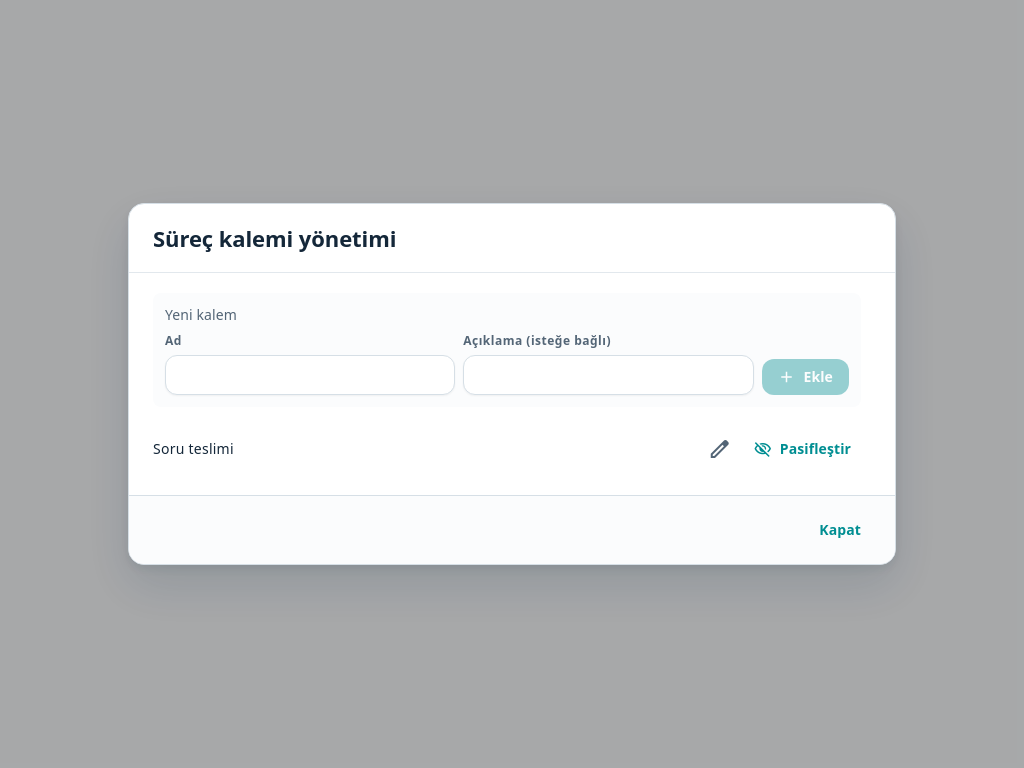
Test: KalemYonetimiDialog › pasifleştirme başlıklı onaydan geçer ve is_active=false yollar
What coordinates should you click on to do the following:
click the button with aria-label "Soru teslimi kalemini pasifleştir"
I would click on:
 (802, 449)
Its box is [744, 431, 861, 467].
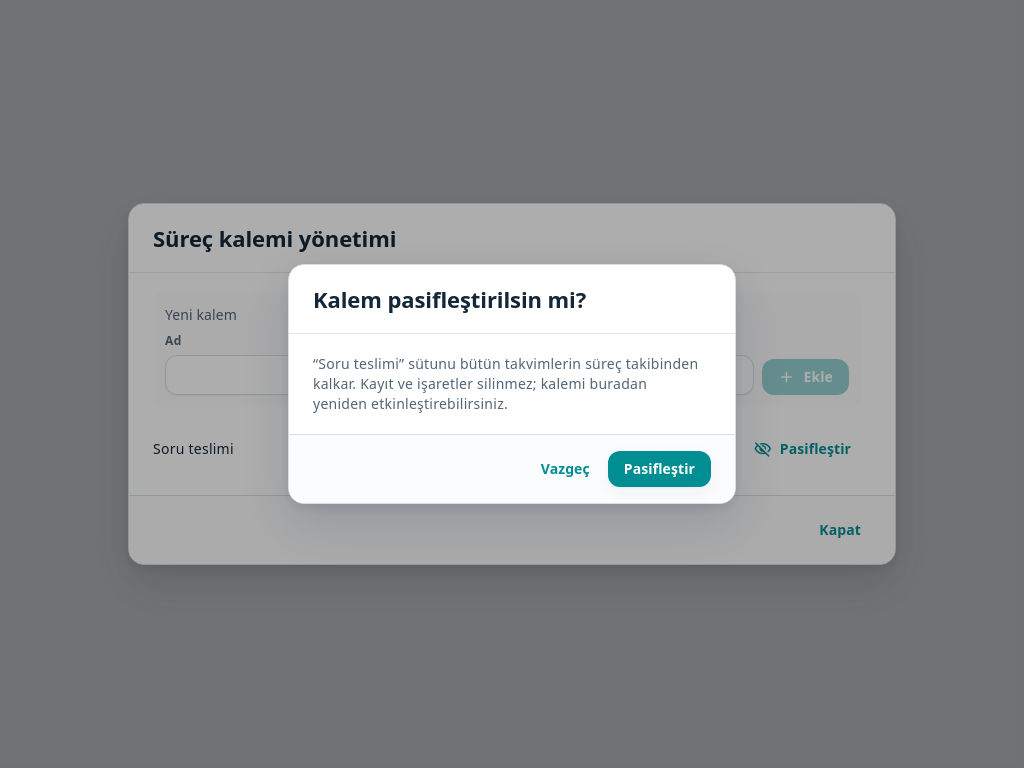
Result: the text "işaretler silinmez" is shown at [313, 354, 698, 413]
What coordinates should you click on to do the following:
click the button "Pasifleştir"
I would click on:
 (659, 469)
Its box is [608, 451, 711, 487].
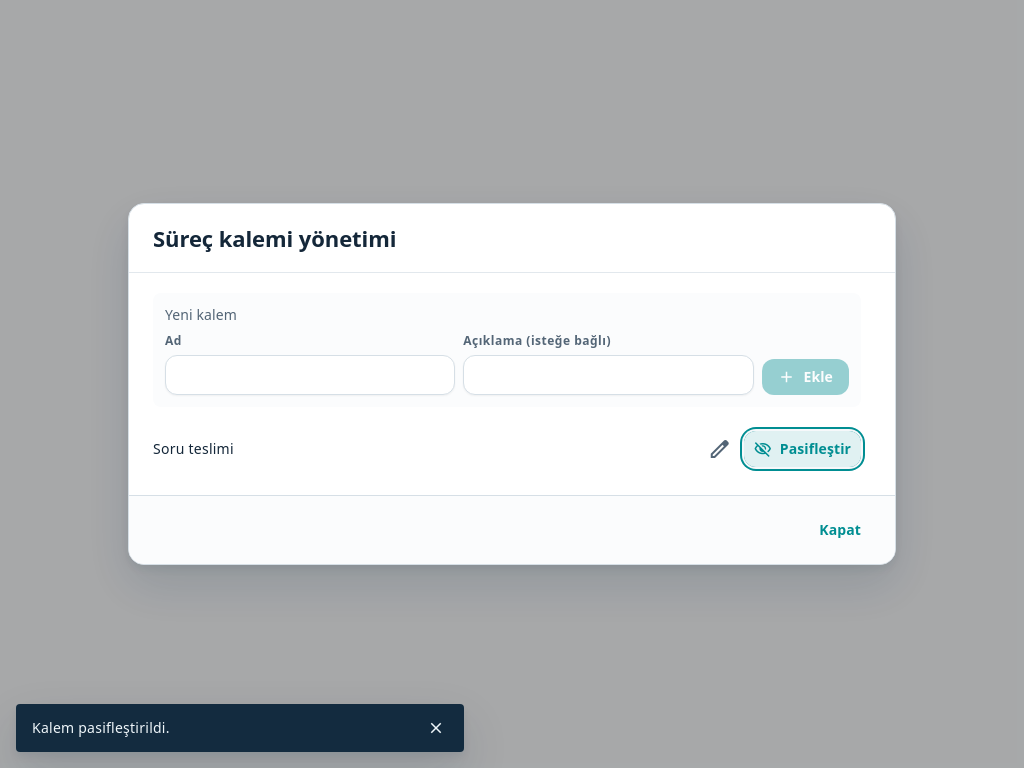
Result: the text "Kalem pasifleştirildi." is shown at [32, 718, 170, 737]
